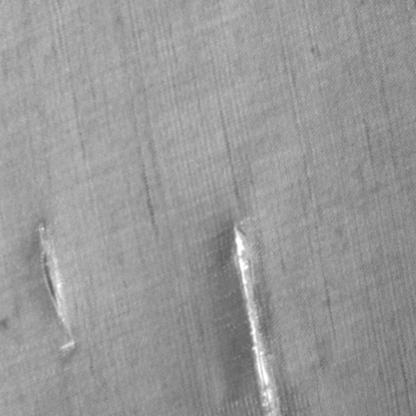hole: (226, 214, 286, 415), (33, 218, 79, 356)
